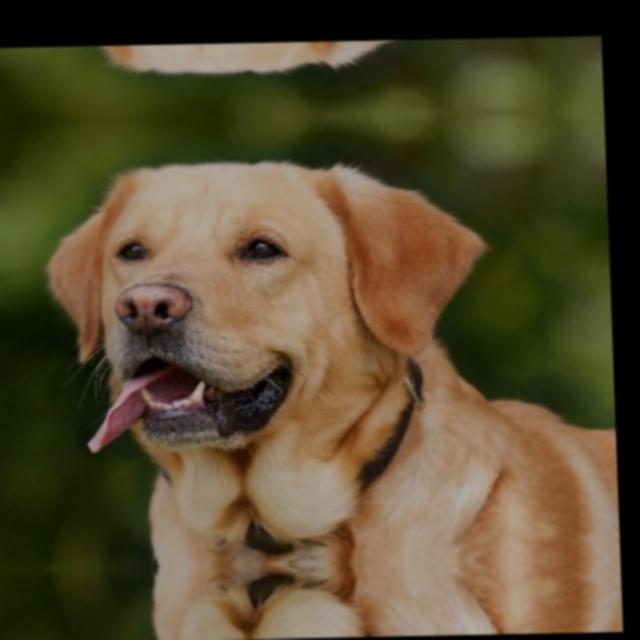dog: (49, 137, 492, 463), (46, 38, 478, 98)
